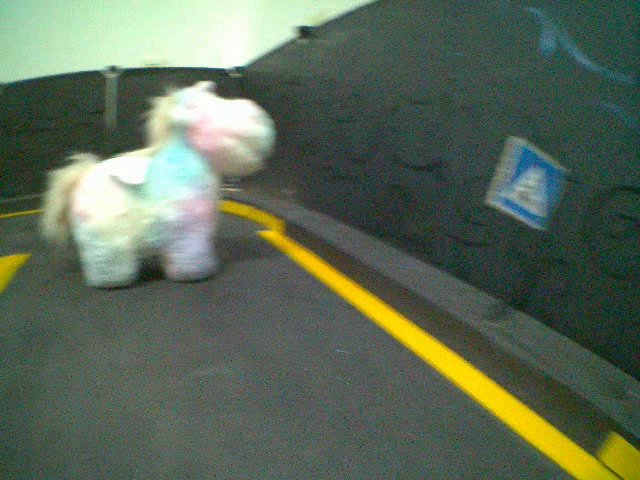unicorn: (39, 76, 280, 293)
